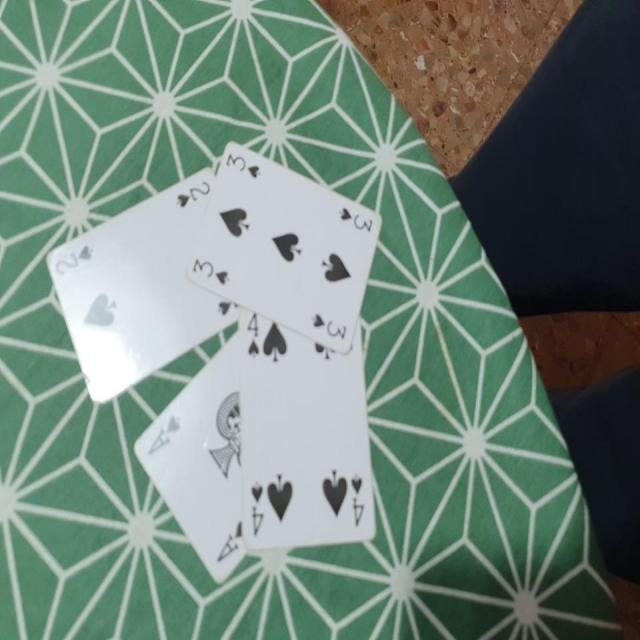2 Spades: (31, 163, 263, 406)
3 Spades: (190, 126, 384, 356)
4 Spades: (232, 294, 389, 566)
A Spades: (132, 311, 318, 597)
